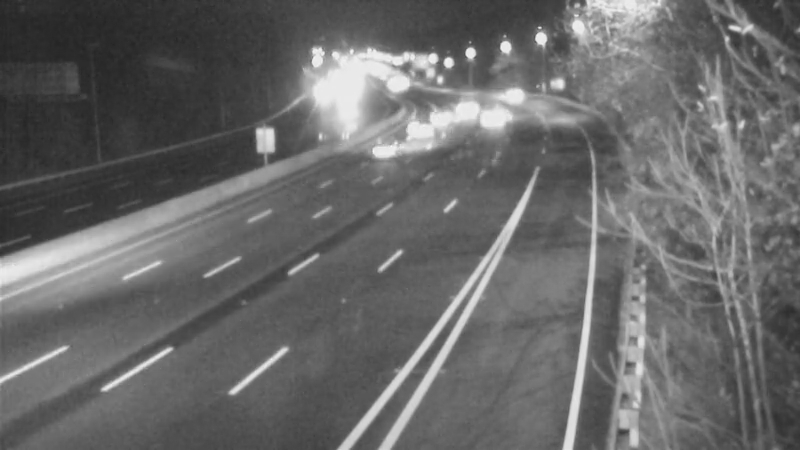vehicle: (486, 71, 536, 121), (441, 76, 491, 126), (413, 92, 463, 142), (470, 92, 520, 142), (398, 106, 448, 156), (359, 124, 409, 174)
